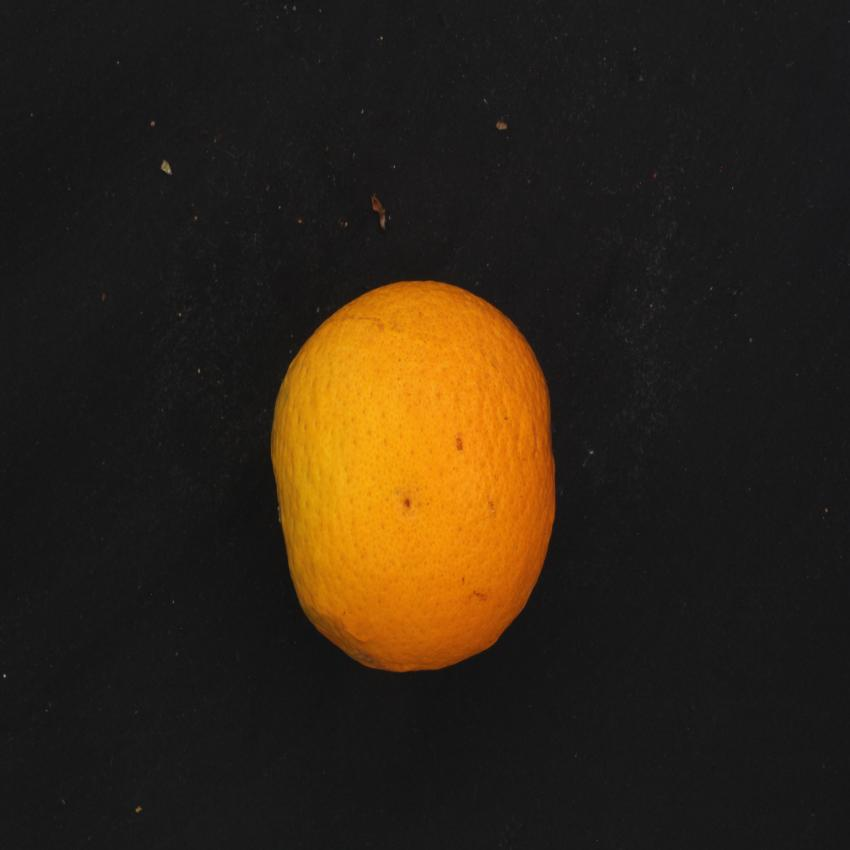Buen estado: (259, 267, 567, 690)
